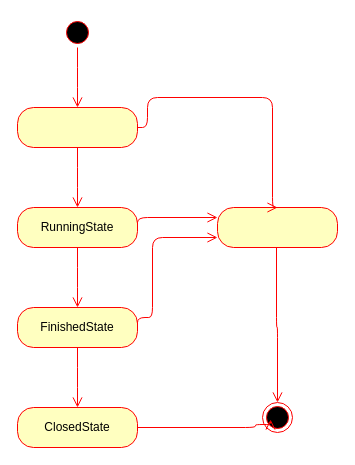
Some shapes in this 355 by 465 pixel diagram are drawn without their labels. The shapes that lost their labels are listed below. From the top down, each one's centre as x and y in pixels, then its label:
[77,127]: PlannedState
[277,227]: CancelledState
